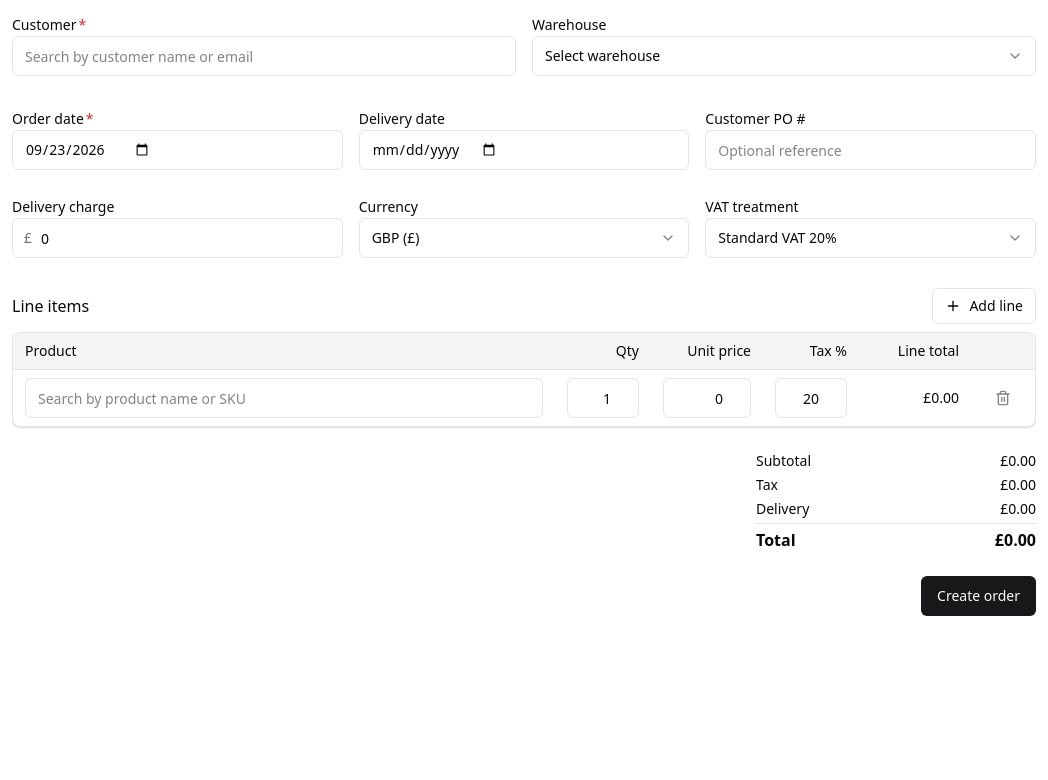
Test: OrderForm › calculates live totals from line qty * price
Replace the text in the number field named "line 1 quantity" with "5" at [603, 398], box top-left (567, 378), bottom-right (639, 418)
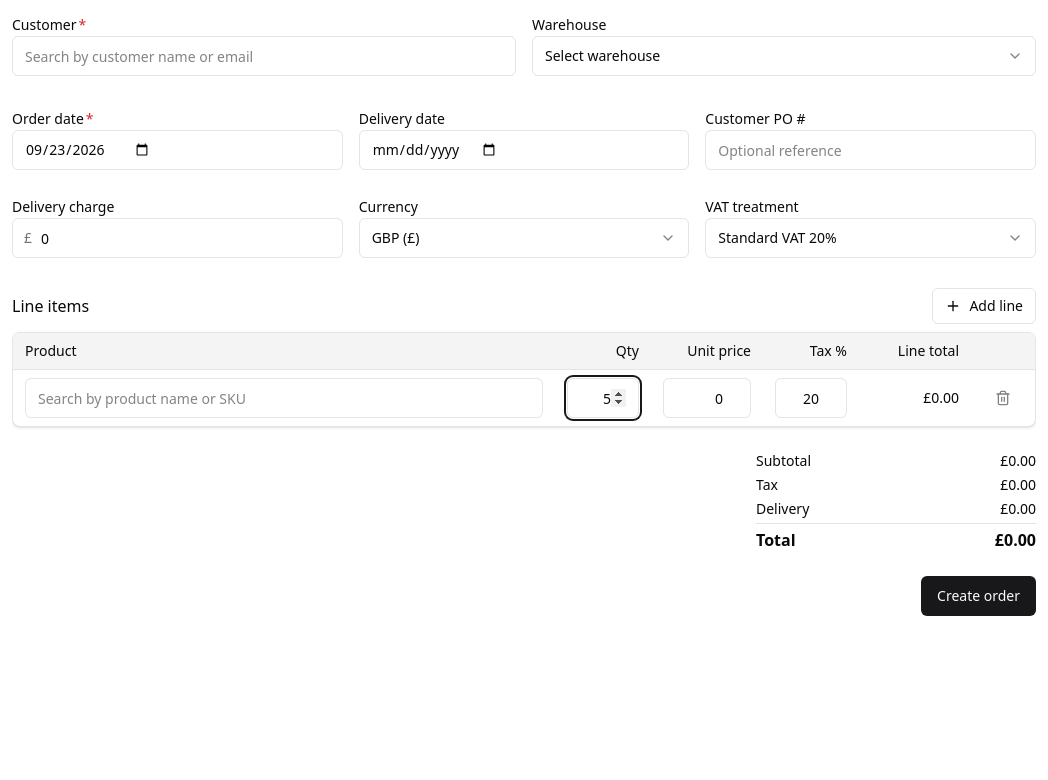
Replace the text in the number field named "line 1 unit price" with "10" at [707, 398], box top-left (663, 378), bottom-right (751, 418)
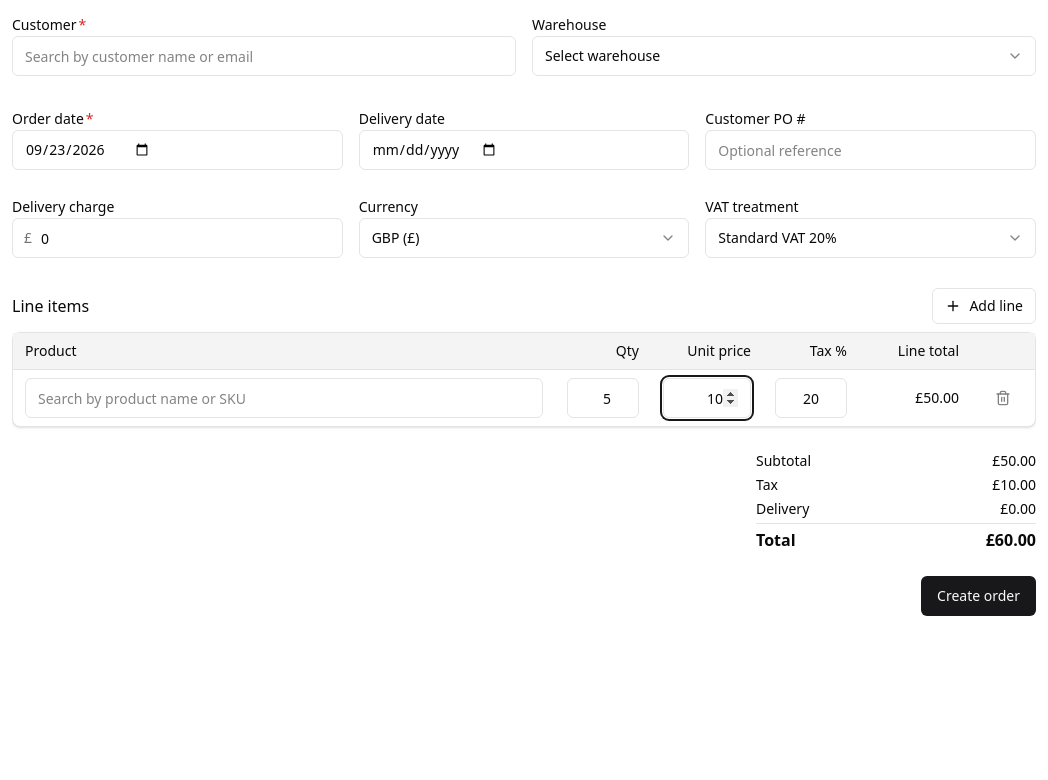
Result: the text "£50.00" is shown at top-left (859, 370), bottom-right (971, 426)
